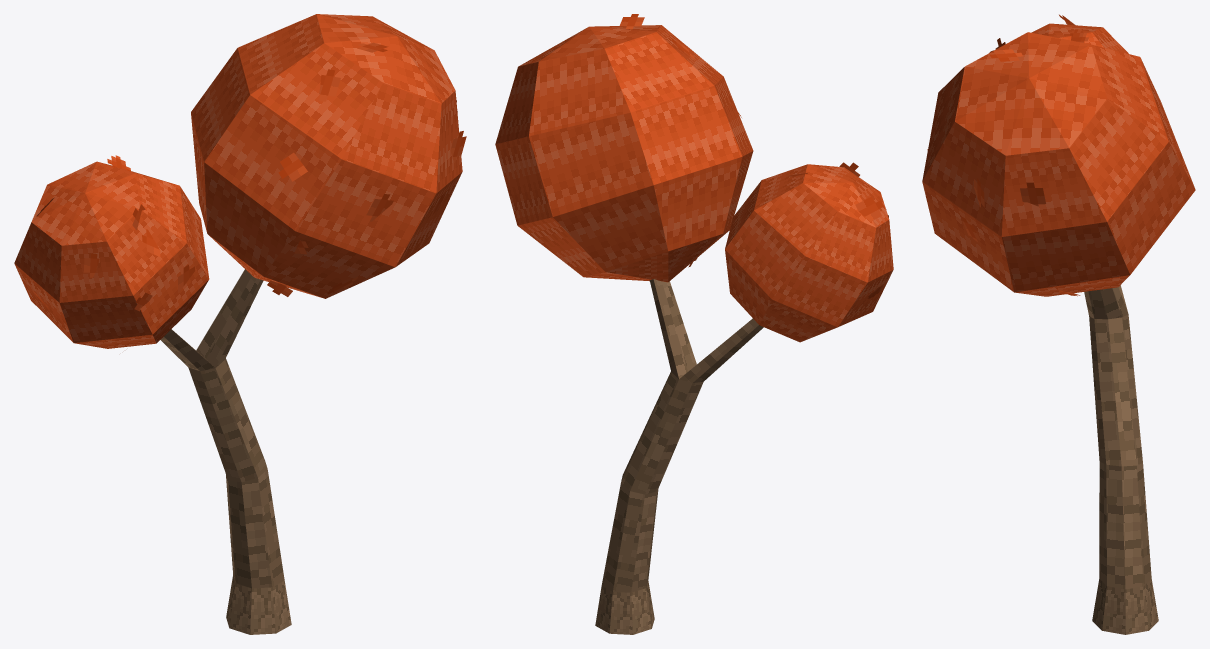
The model's file is Arbre var1.glb.
3 renders of one model, left to right at view 1: azimuth 30°, elevation 25°; view 2: azimuth 150°, elevation 25°; view 3: azimuth 270°, elevation 25°, orthographic. The views are drawn at different scales.
Visible parts, largest first — view 1: Sphere.007; view 2: Sphere.007; view 3: Sphere.007.
Part boxes in pixels (<box>): Sphere.007: <box>14,14,466,634</box>; Sphere.007: <box>495,14,893,634</box>; Sphere.007: <box>922,14,1195,634</box>.
Bounding box in the file's own units: 2.14 × 3.06 × 1.27.
Materials: 23 (23 with a texture image).
